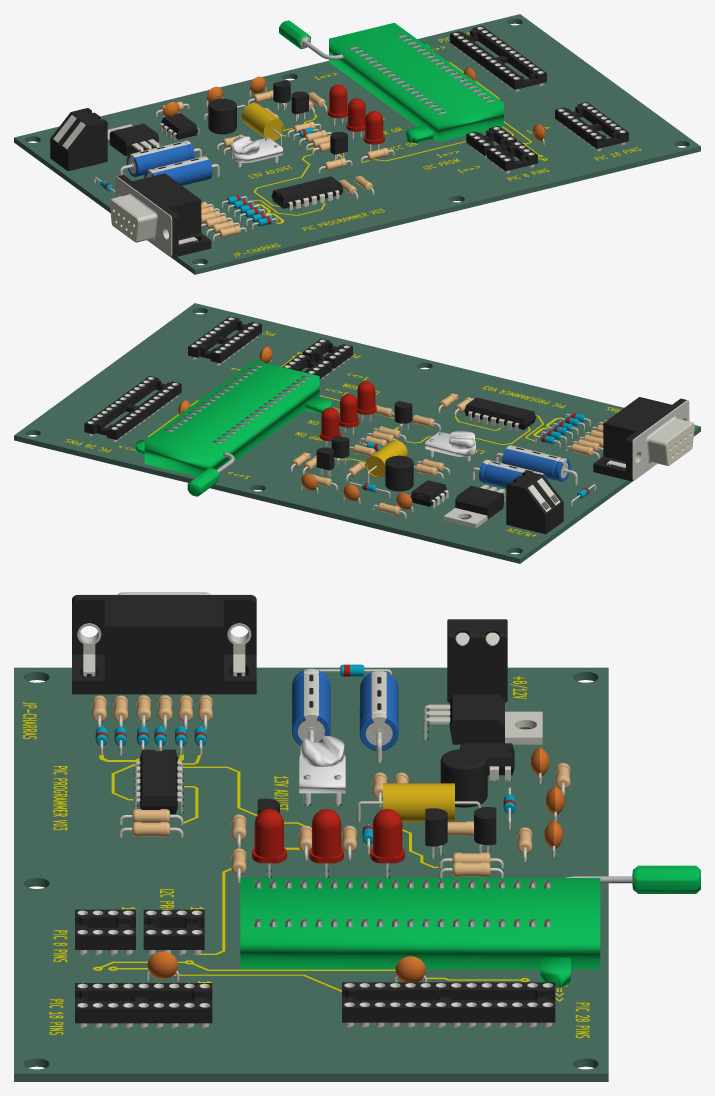
Rendered from pic_programmer.glb.
3 renders of one model, top to bottom at view 1: azimuth 30°, elevation 25°; view 2: azimuth 150°, elevation 25°; view 3: azimuth 270°, elevation 25°, orthographic. The views are drawn at different scales.
Visible parts, largest first — view 1: =>[0:1:1:86], textool_40 (Face), =>[0:1:1:63], =>[0:1:1:55], =>[0:1:1:77], =>[0:1:1:3] (×2), =>[0:1:1:84], =>[0:1:1:57], =>[0:1:1:51] (×2), =>[0:1:1:69] (×3), =>[0:1:1:59], =>[0:1:1:65] (×3) (+6 smaller); view 2: =>[0:1:1:86], textool_40 (Face), =>[0:1:1:63], =>[0:1:1:55], =>[0:1:1:77], =>[0:1:1:3] (×2), =>[0:1:1:57], =>[0:1:1:69] (×3), =>[0:1:1:79], =>[0:1:1:84], =>[0:1:1:51] (×2), =>[0:1:1:59] (+6 smaller); view 3: =>[0:1:1:86], textool_40 (Face) (×2), =>[0:1:1:63], =>[0:1:1:55], =>[0:1:1:57], =>[0:1:1:84], =>[0:1:1:3] (×2), =>[0:1:1:51] (×2), =>[0:1:1:69] (×3), =>[0:1:1:77], =>[0:1:1:79], =>[0:1:1:59] (+7 smaller).
Boxes of the visible parts, x1,y1,x2,y2 form: =>[0:1:1:86]: (14,14,700,274); textool_40 (Face): (329,22,503,142); =>[0:1:1:63]: (109,173,211,264); =>[0:1:1:55]: (450,26,546,92); =>[0:1:1:77]: (50,108,107,171); =>[0:1:1:3] (×2): (119,140,219,185); =>[0:1:1:84]: (233,32,640,257); =>[0:1:1:57]: (555,102,628,151); =>[0:1:1:51] (×2): (466,126,537,173); =>[0:1:1:69] (×3): (327,84,384,151); =>[0:1:1:59]: (271,176,343,210); =>[0:1:1:65] (×3): (273,80,347,160); =>[0:1:1:86]: (14,303,700,563); textool_40 (Face): (144,360,319,476); =>[0:1:1:63]: (593,397,694,481); =>[0:1:1:55]: (84,376,181,442); =>[0:1:1:77]: (506,471,563,534); =>[0:1:1:3] (×2): (471,445,577,488); =>[0:1:1:57]: (188,316,261,365); =>[0:1:1:69] (×3): (319,381,376,446); =>[0:1:1:79]: (443,485,505,528); =>[0:1:1:84]: (64,331,620,552); =>[0:1:1:51] (×2): (282,338,352,379); =>[0:1:1:59]: (464,397,536,431); =>[0:1:1:86]: (14,667,608,1081); textool_40 (Face) (×2): (240,878,600,987); =>[0:1:1:63]: (72,592,256,694); =>[0:1:1:55]: (342,982,555,1027); =>[0:1:1:57]: (75,983,212,1028); =>[0:1:1:84]: (22,676,589,1038); =>[0:1:1:3] (×2): (292,668,398,762); =>[0:1:1:51] (×2): (75,909,204,955); =>[0:1:1:69] (×3): (252,809,404,877); =>[0:1:1:77]: (447,619,507,702); =>[0:1:1:79]: (424,694,542,744); =>[0:1:1:59]: (135,749,182,813).
Size of the model in its own units: 0.168 by 0.0189 by 0.1144.
